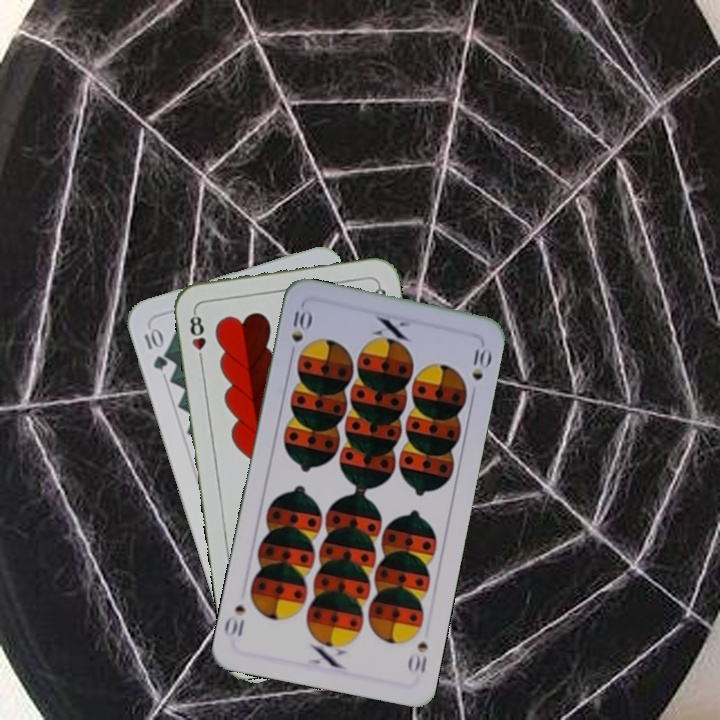G10: (140, 323, 170, 373)
H8: (186, 307, 209, 366)
S10: (287, 302, 313, 361), (404, 638, 431, 676)
